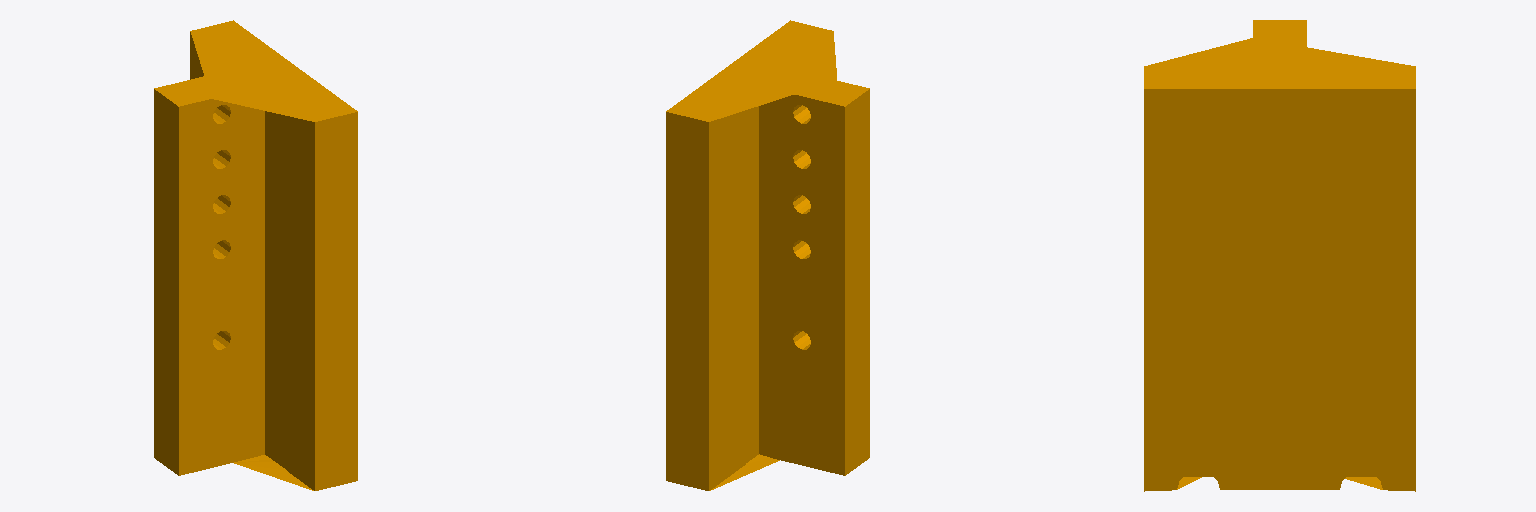
The robot description file, URDF, robot "00726_socket":
<?xml version="1.0"?>
<robot name="00726_socket">
	<link name="00726_socket">
		<visual>
			<geometry>
				<mesh filename="../mesh/00726/asset_socket.obj"/>
			</geometry>
		</visual>
		<collision>
			<geometry>
				<mesh filename="../mesh/00726/asset_socket.obj"/>
			</geometry>
			<sdf resolution="256"/>
		</collision>
	</link>
</robot>

--- Facts derived from the render (not from the file) ---
Views: 3 orthographic renders of the robot side by side, from view 1: azimuth 30°, elevation 25°; view 2: azimuth 150°, elevation 25°; view 3: azimuth 270°, elevation 25°.
Robot: 00726_socket — 1 links, 0 joints (none); root link 00726_socket; default pose: every joint at zero.
Links seen in each view (by area): view 1: 00726_socket; view 2: 00726_socket; view 3: 00726_socket.
Link boxes in pixels (<box>): 00726_socket: <box>154,20,357,490</box>; 00726_socket: <box>666,20,869,490</box>; 00726_socket: <box>1144,20,1415,491</box>.
Size in the robot's own frame: 0.0118 by 0.0197 by 0.0321 metres.
Meshes: 1 distinct files referenced, 1 mesh visuals loaded (1 OBJ).